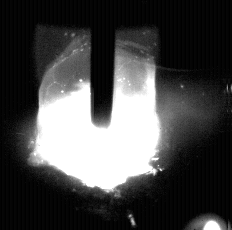arame: (92, 0, 115, 127)
poca: (35, 0, 158, 230)
